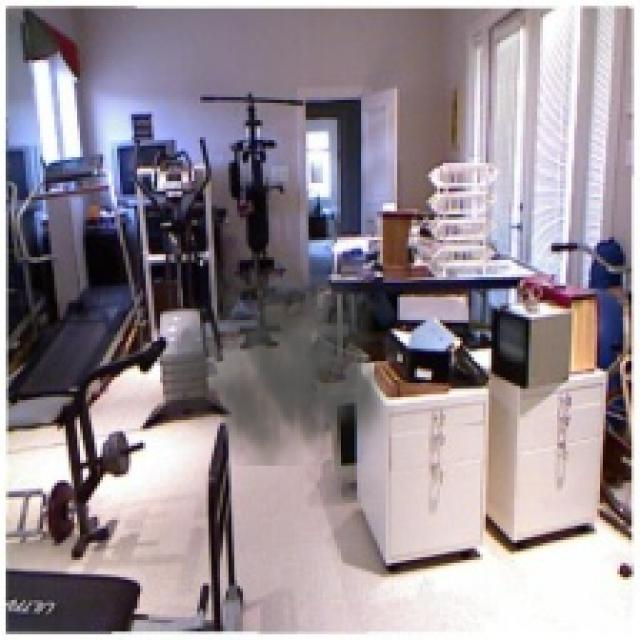smoke: (172, 237, 397, 466)
